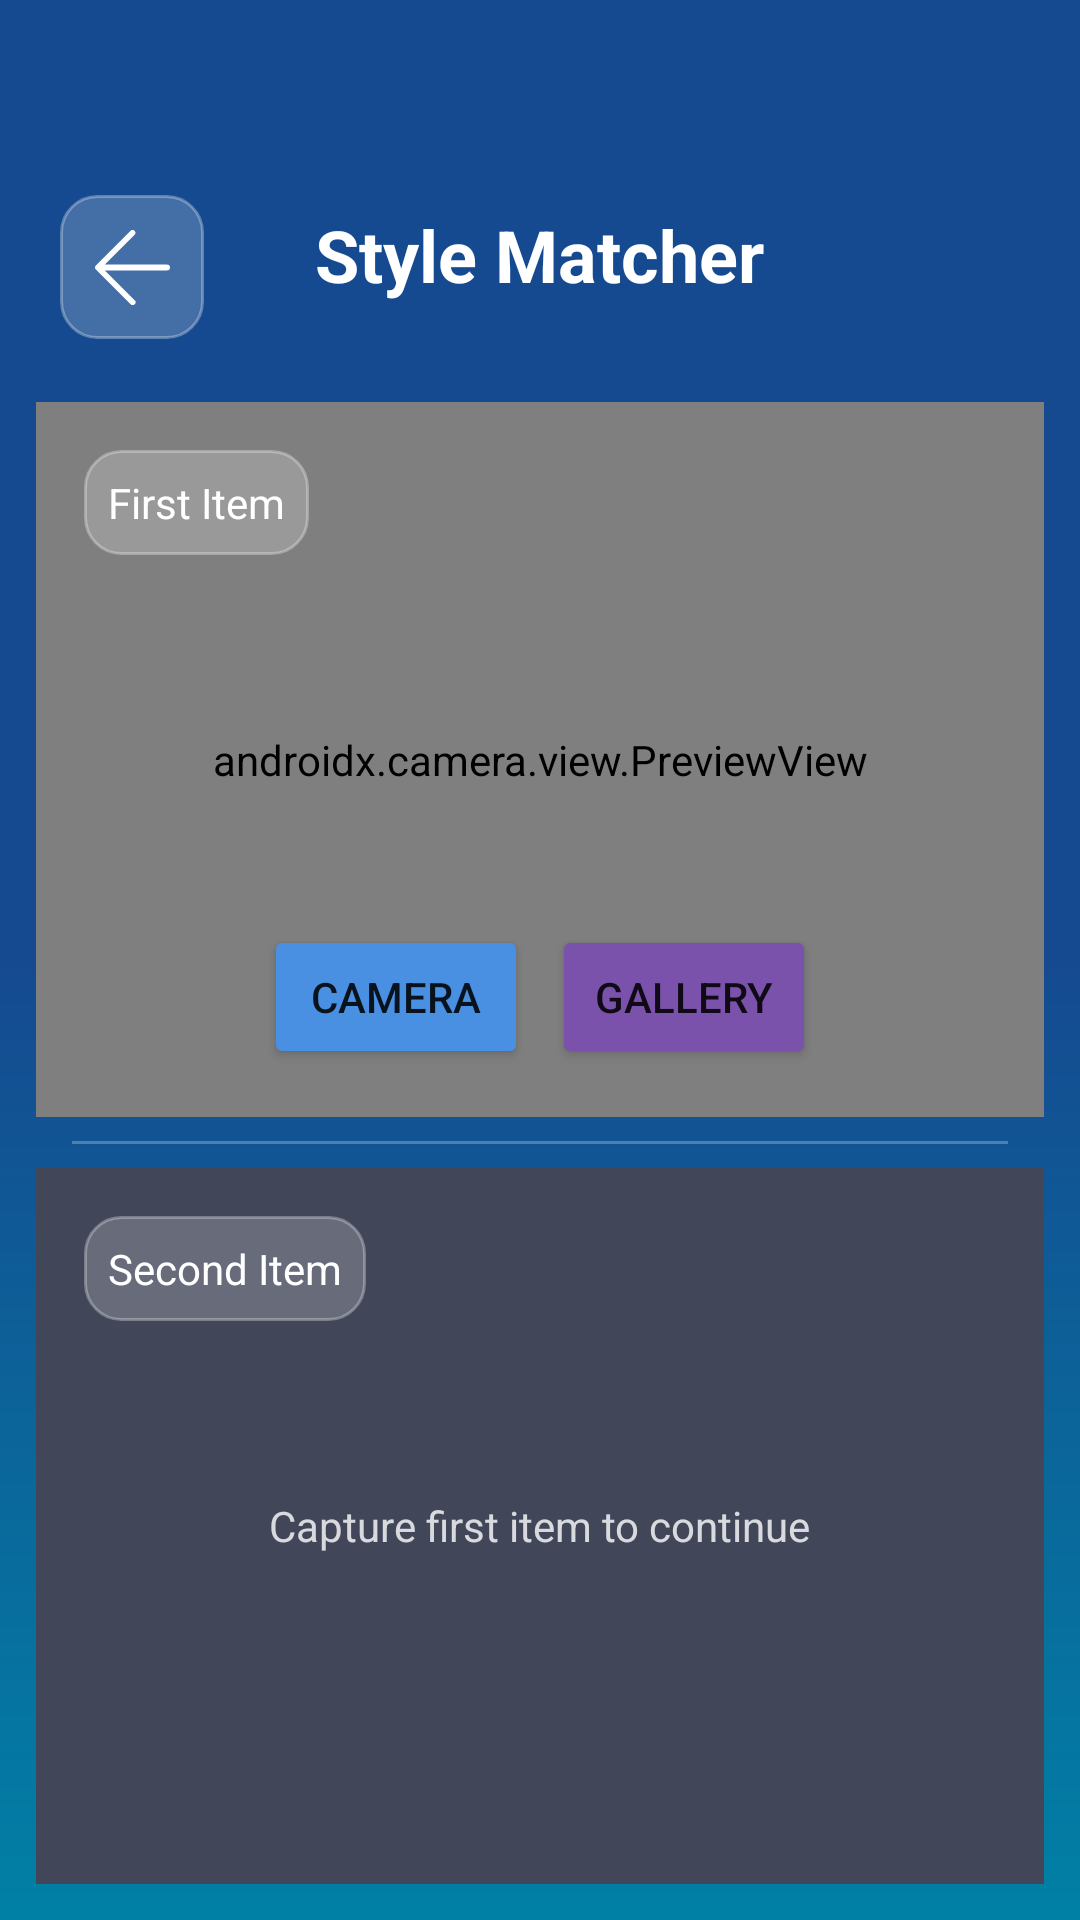

Icon click points for this 1080 x 1920 phone screenshot, format (x=x, y=y):
Back: (x=132, y=267)
